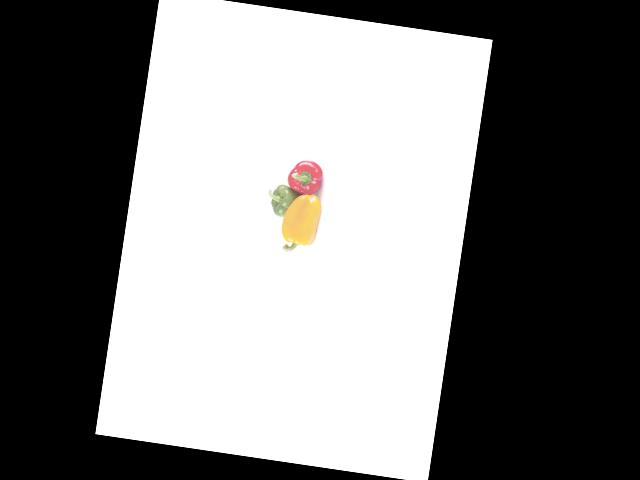bell_pepper: (264, 179, 302, 222)
